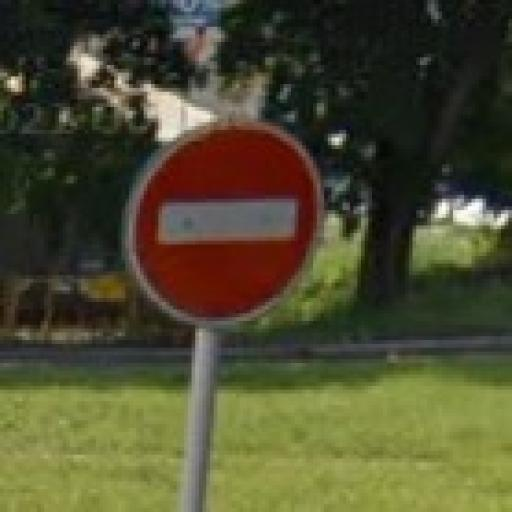traffic_sign: (123, 120, 325, 330)
